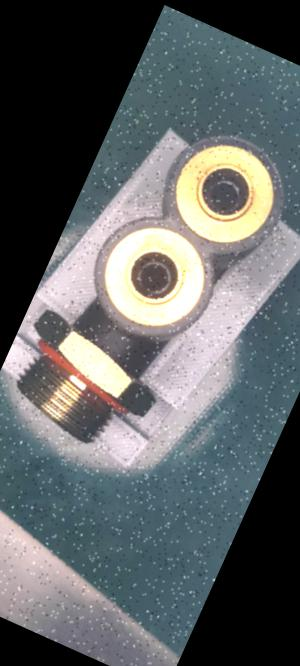craze: (95, 334, 114, 353)
